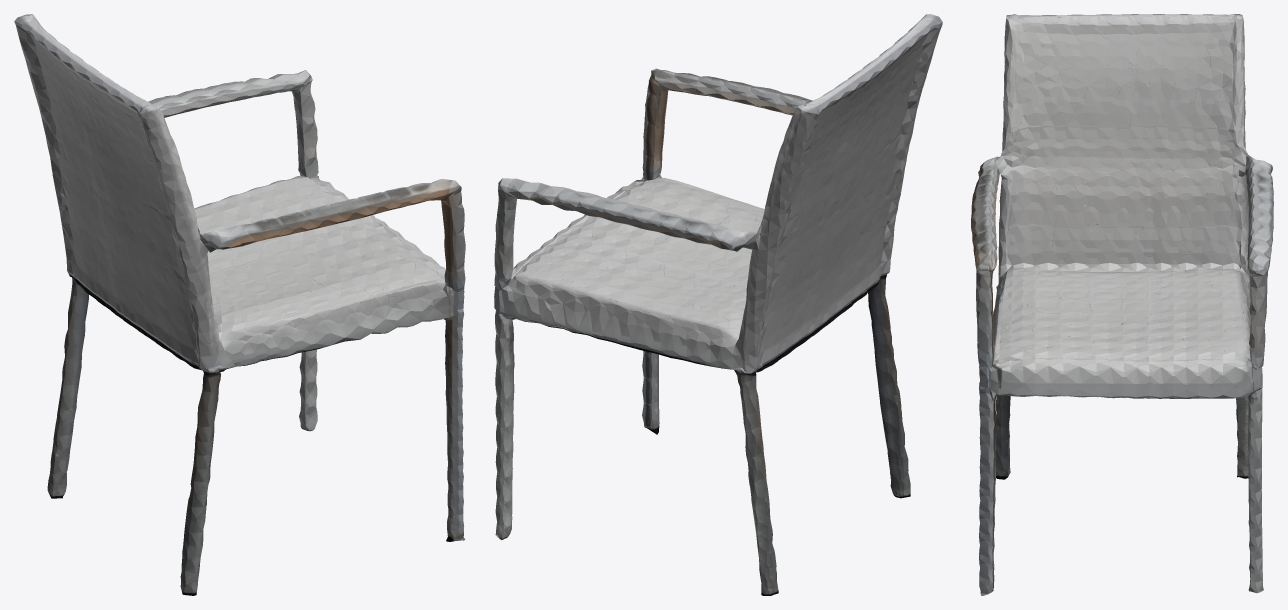
The model's file is elem_94_115_131_206_9_2.obj.
The picture shows the model from 3 angles, left to right: view 1: azimuth 30°, elevation 25°; view 2: azimuth 150°, elevation 25°; view 3: azimuth 270°, elevation 25°; orthographic projection. The views are drawn at different scales.
Bounding box in the file's own units: 0.487 × 0.7169 × 0.4364.
Materials: 1 (1 with a texture image).
